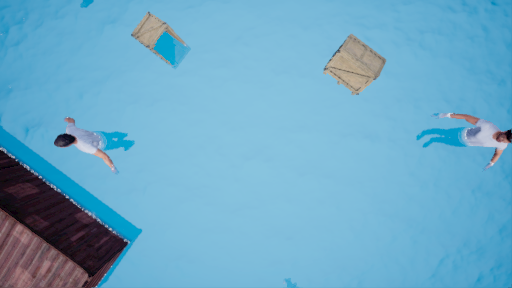person: (394, 104, 504, 171), (47, 112, 147, 171)
